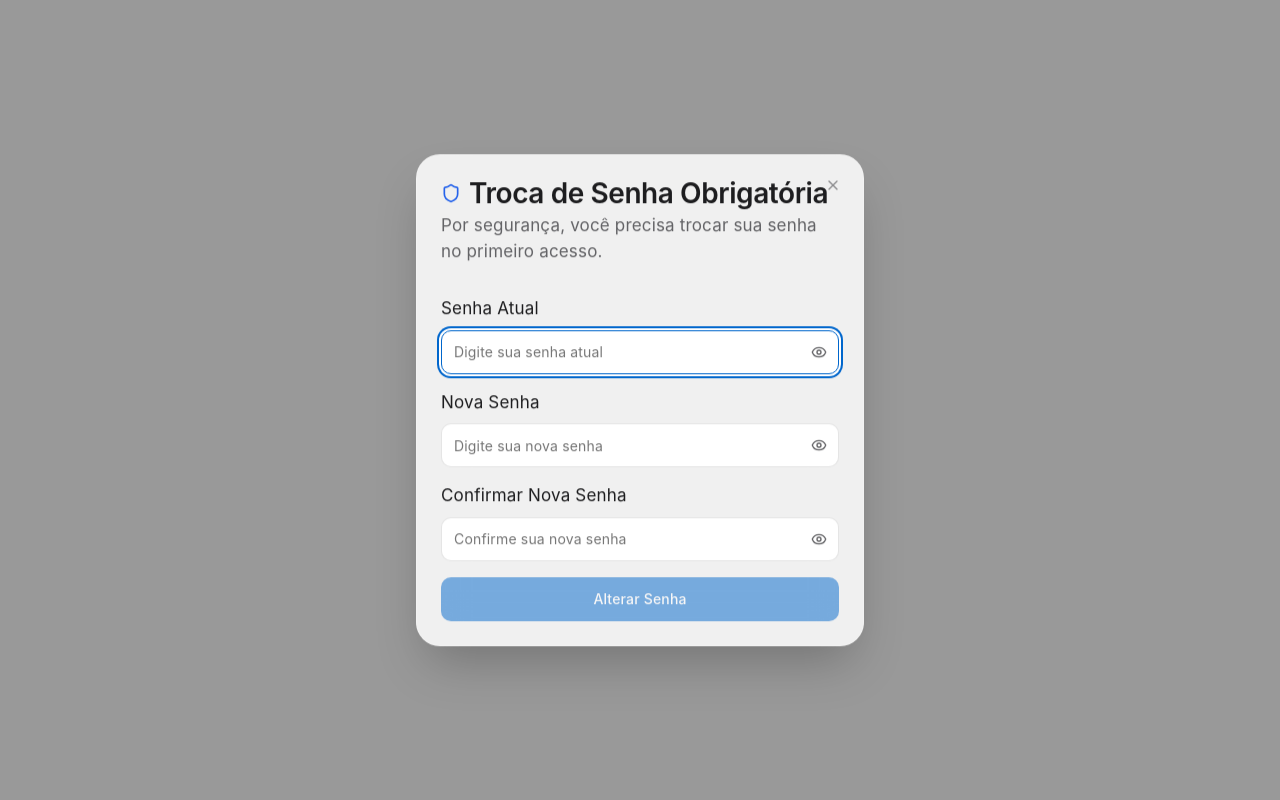
Test: PasswordChangeModal › Password Validation › should show success message for valid password
Step 1. Type "ValidPass123!" into the password field labelled "Nova Senha" → (640, 445), box [441, 423, 839, 467]
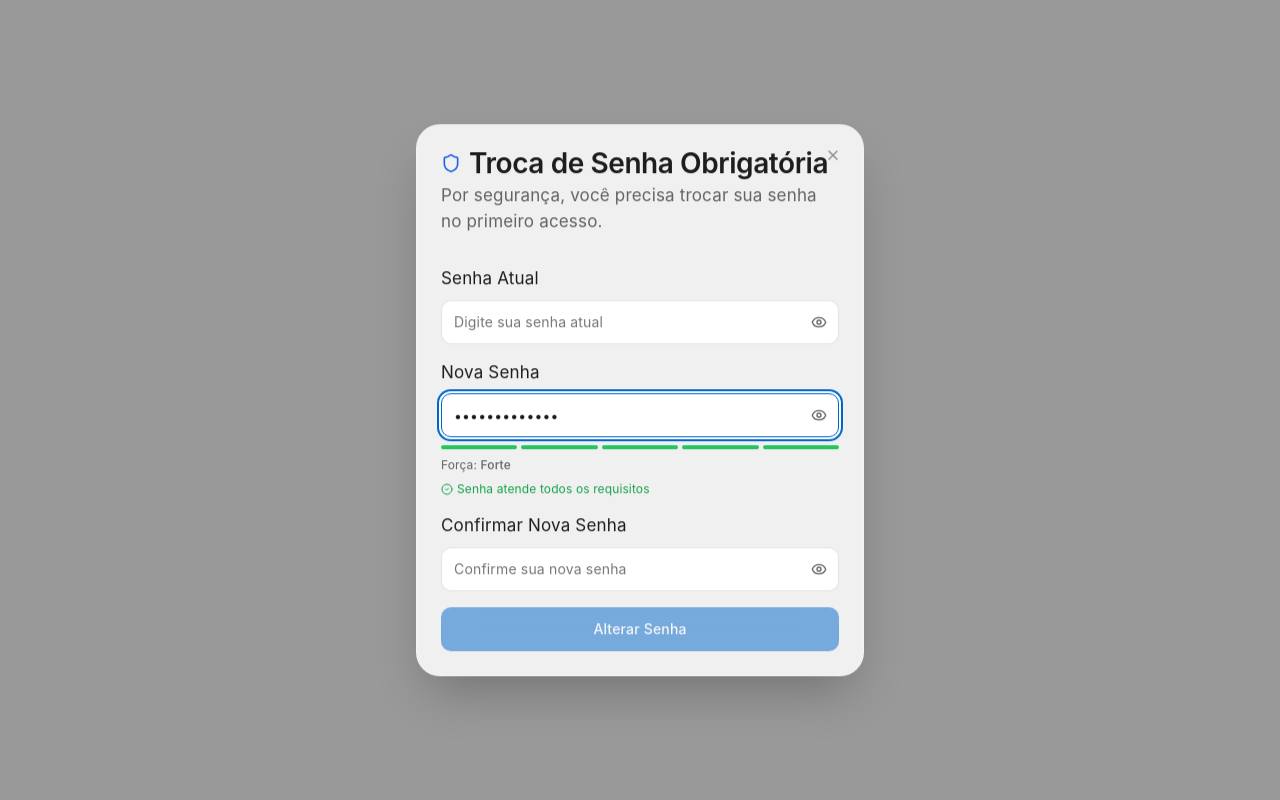
Result: the text "Senha atende todos os requisitos" is shown at [441, 481, 650, 496]
